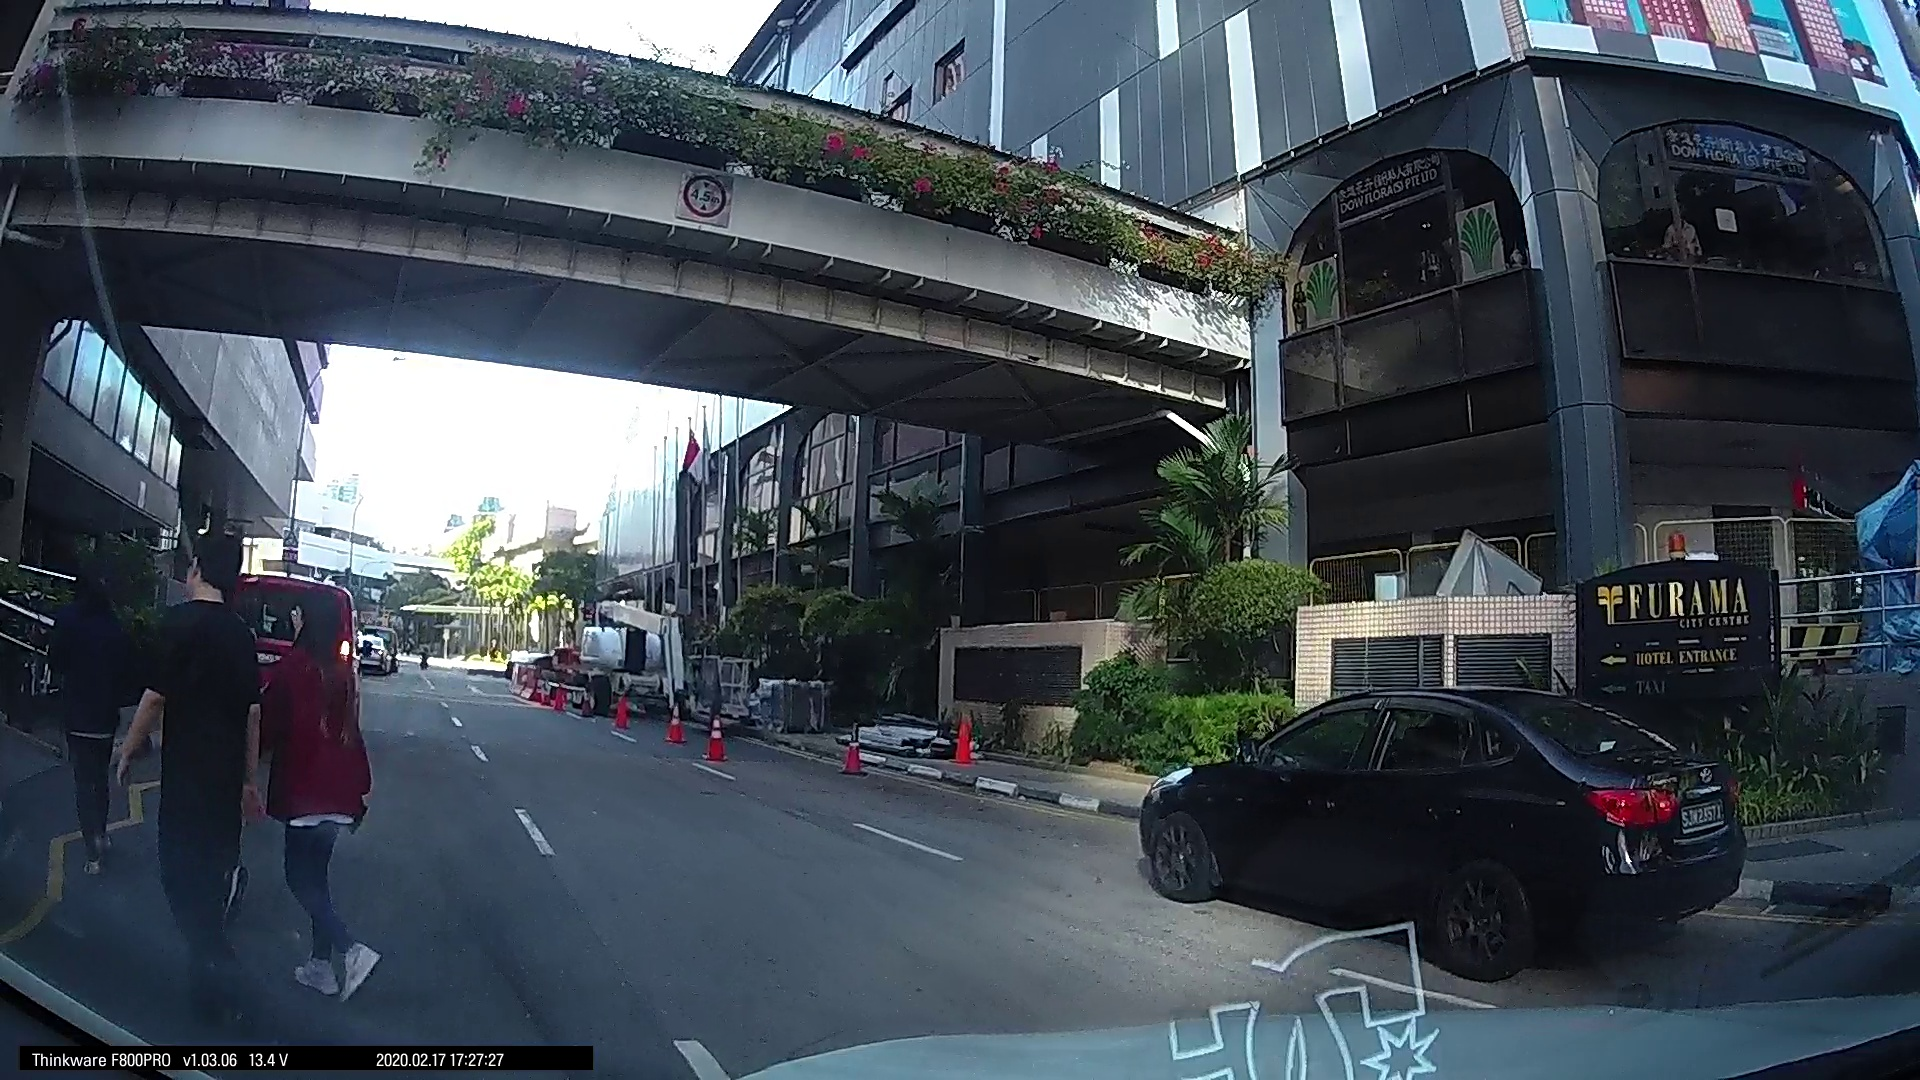Heavy Vehicle: (30, 415, 542, 994), (1617, 538, 1913, 868)
Light Vehicle: (465, 589, 775, 866), (1271, 665, 1403, 765), (746, 640, 815, 754), (1176, 670, 1241, 735), (1043, 646, 1102, 695), (945, 655, 1000, 699)
